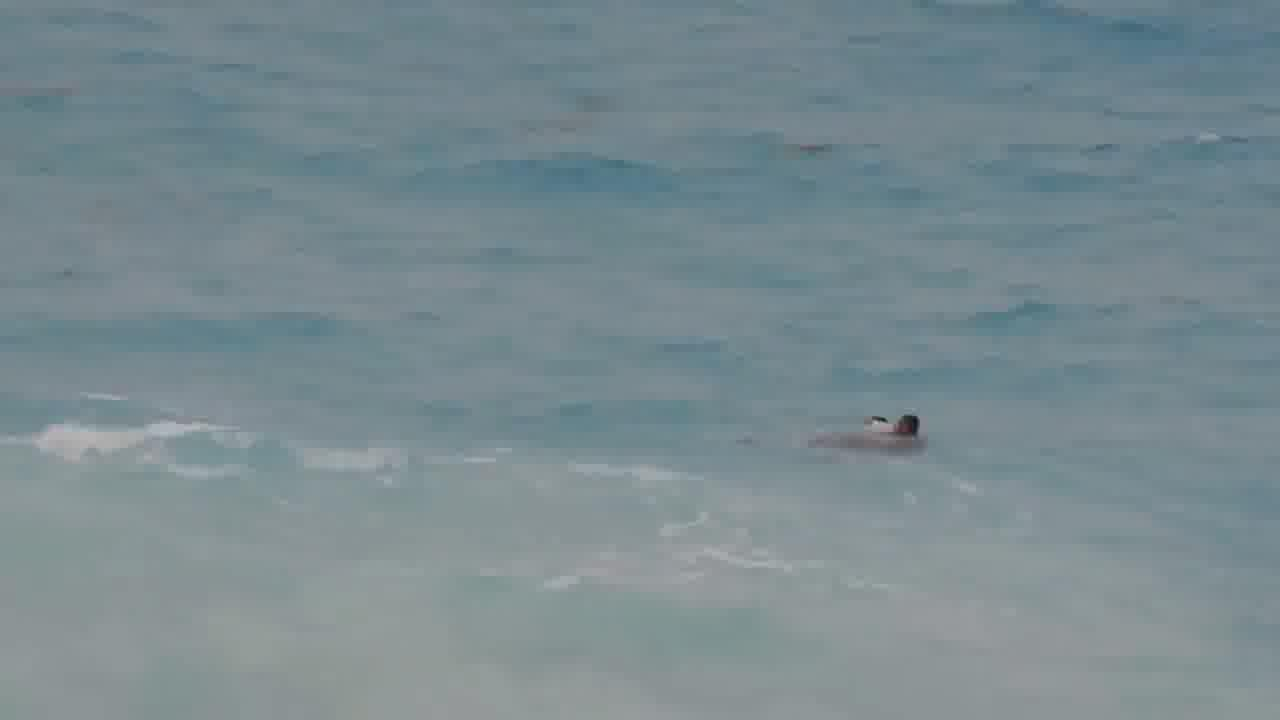human: (812, 403, 892, 458), (893, 406, 936, 459)
